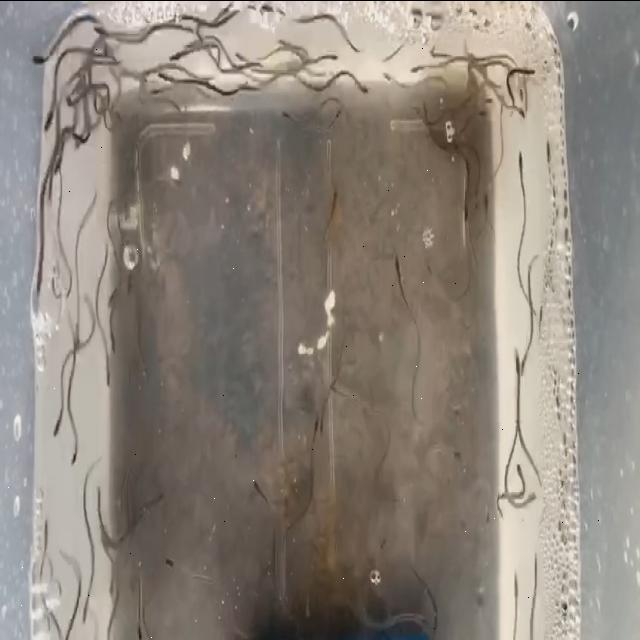inactive_glass_eel: (104, 282, 120, 326), (28, 45, 44, 85), (316, 388, 328, 441), (65, 433, 80, 472), (48, 414, 64, 450), (390, 240, 402, 288), (90, 22, 111, 49), (312, 412, 326, 452), (518, 342, 530, 388), (232, 42, 248, 76), (514, 145, 528, 183), (34, 264, 46, 308), (163, 48, 184, 73), (37, 109, 53, 140), (356, 79, 374, 106), (174, 6, 192, 32), (148, 75, 160, 114), (63, 90, 84, 112), (248, 478, 266, 503), (100, 358, 114, 390), (156, 60, 169, 94), (254, 0, 274, 22), (105, 324, 118, 356), (474, 96, 486, 130), (46, 262, 60, 288), (408, 56, 424, 78), (328, 190, 341, 217), (516, 96, 526, 130), (544, 140, 554, 174), (93, 489, 107, 513), (522, 65, 536, 89), (460, 192, 470, 225), (532, 549, 540, 589), (512, 354, 522, 386), (512, 562, 524, 588), (485, 93, 499, 115), (151, 486, 165, 508), (80, 595, 90, 625), (132, 619, 146, 640), (64, 614, 75, 640), (328, 48, 341, 70), (478, 187, 492, 207), (428, 40, 444, 56), (38, 511, 48, 536), (514, 456, 522, 484), (280, 105, 290, 123)
